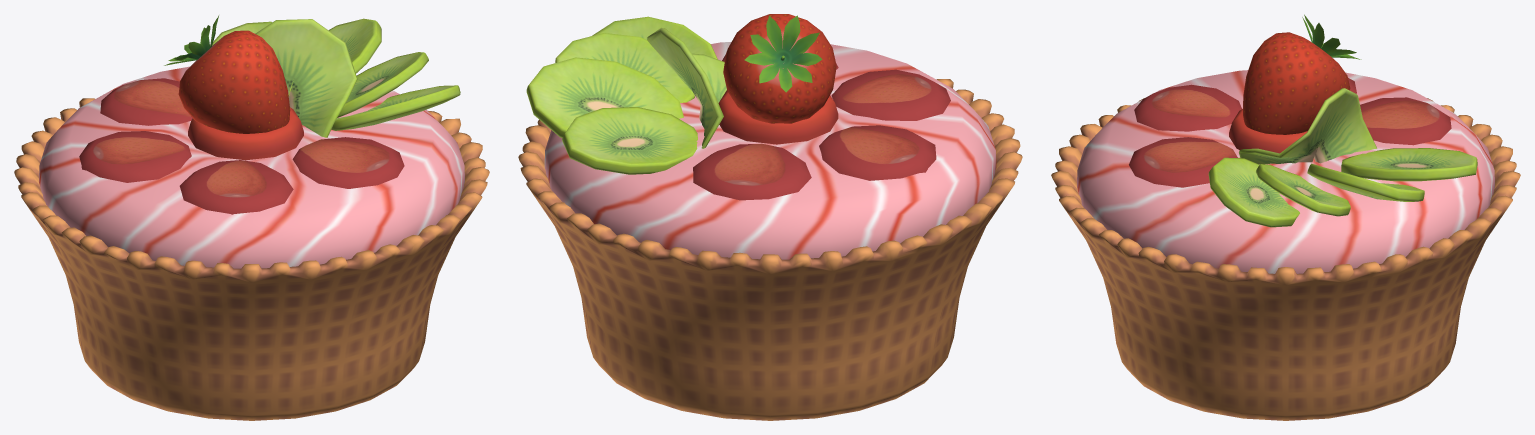
Rendered from dessert_jam_2.fbx.
3 views of the same model, side by side, from view 1: azimuth 30°, elevation 25°; view 2: azimuth 150°, elevation 25°; view 3: azimuth 270°, elevation 25° (orthographic). The views are drawn at different scales.
Visible parts, largest first — view 1: dessert_jam_strawberry; view 2: dessert_jam_strawberry; view 3: dessert_jam_strawberry.
Boxes of the visible parts, left/top/right/bottom form: dessert_jam_strawberry: left=14, top=15, right=489, bottom=420; dessert_jam_strawberry: left=518, top=14, right=1022, bottom=420; dessert_jam_strawberry: left=1051, top=14, right=1520, bottom=420.
Bounding box in the file's own units: 14.4 × 10.85 × 14.36.
